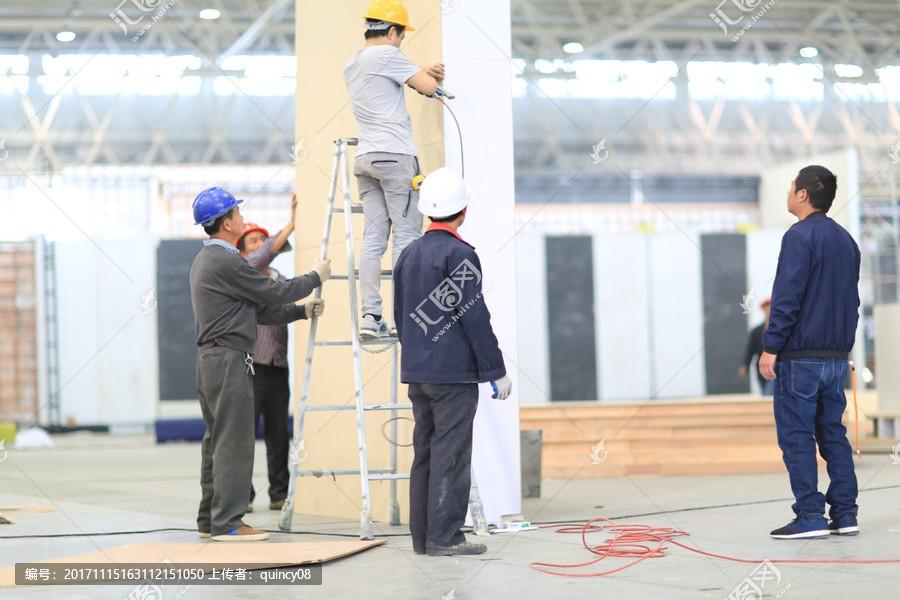helmet: (417, 169, 468, 218), (194, 187, 239, 226), (369, 2, 408, 33), (240, 223, 273, 246)
